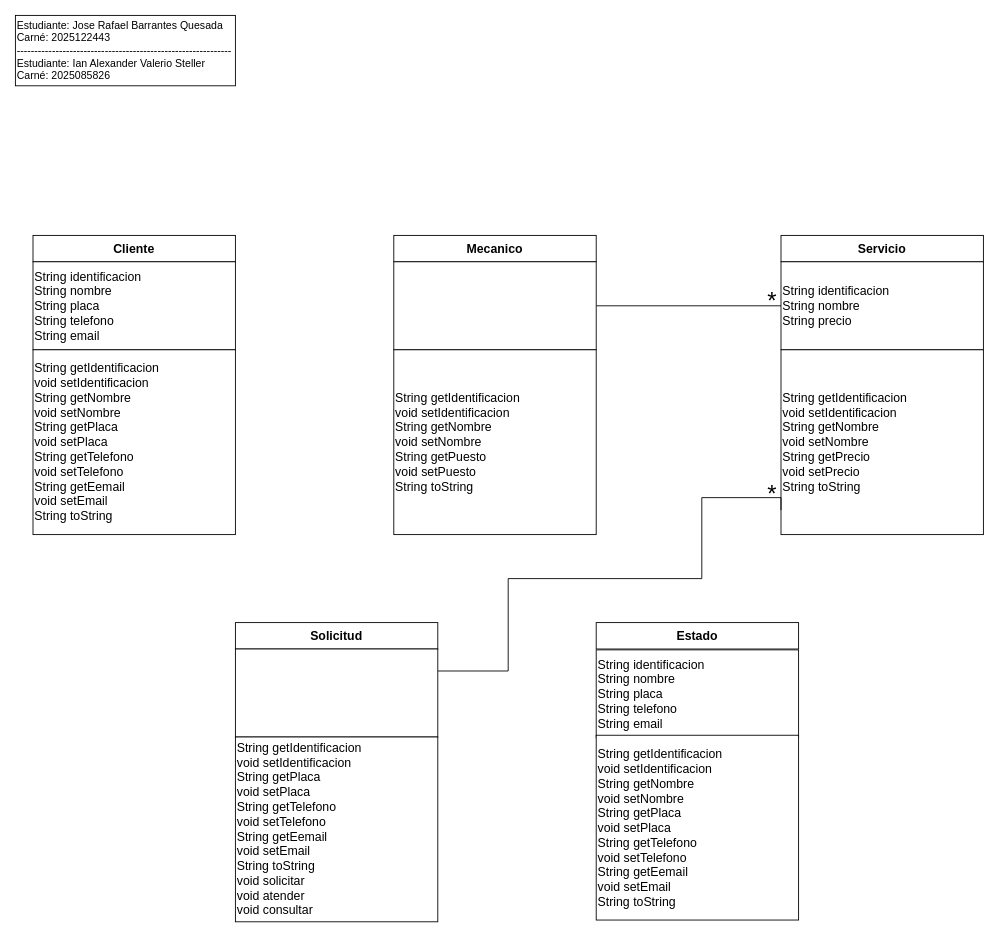
Some shapes in this 999 by 937 pixel diagram are drawn without their labels. Here are the shapes that lost their labels. From the top down, the centre of each, then its label:
At point (494, 305): "String identificacion String nombre String puesto".
At point (336, 692): "String identificacion String placa String observaciones".
